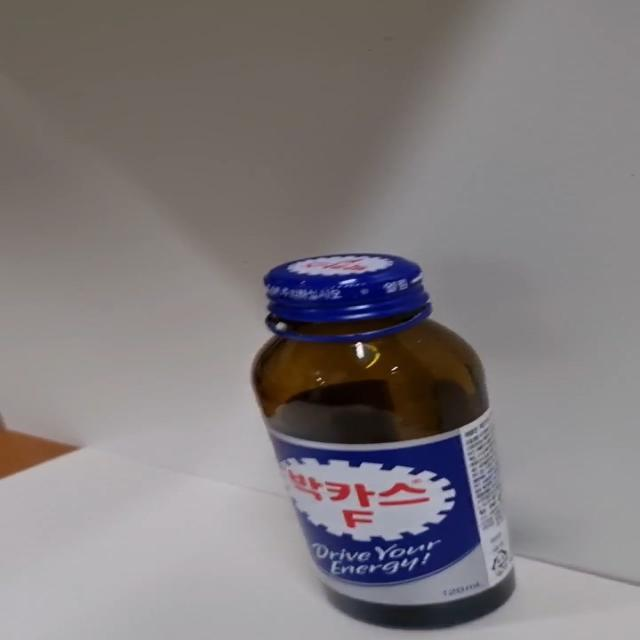Glass: (250, 253, 516, 632)
